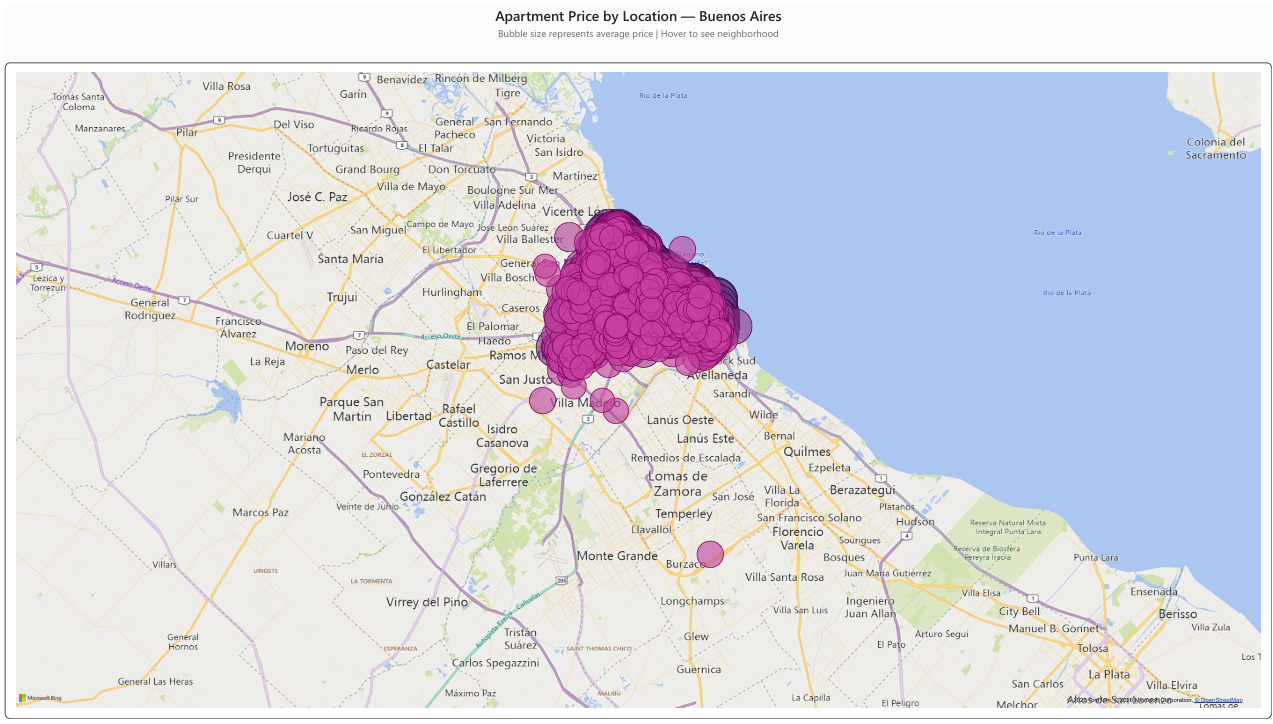

This screenshot's page, from the dashboard's own definition file:
{"tool":"powerbi","page":{"name":"Page 2","canvas":[1920,1080],"ordinal":1},"visuals":[{"type":"map","title":"Apartment Price by Location — Buenos Aires","fields":{"Size":["Avg(apartment_prices__cleaned.price_aprox_usd)"],"X":["apartment_prices__cleaned.lon"],"Y":["apartment_prices__cleaned.lat"]},"box":[0,85.9,1920.7,994.9],"z":0},{"type":"textbox","title":"Apartment Price by Location — Buenos Aires","box":[0,0,1920.7,85.9],"z":1000}]}

Visuals, with their boxes in screenshot pixels (x1, y1, x2, y2), scaled from the page's 1920x1080 canvas onto the 1273x724 screenshot:
"Apartment Price by Location — Buenos Aires" map: Rect(0, 58, 1272, 723)
"Apartment Price by Location — Buenos Aires" textbox: Rect(0, 0, 1272, 58)
